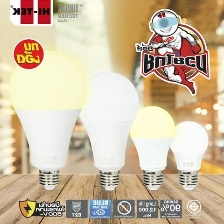light_bulb: (5, 47, 89, 193), (74, 68, 142, 192), (124, 102, 178, 192), (164, 118, 210, 192)
